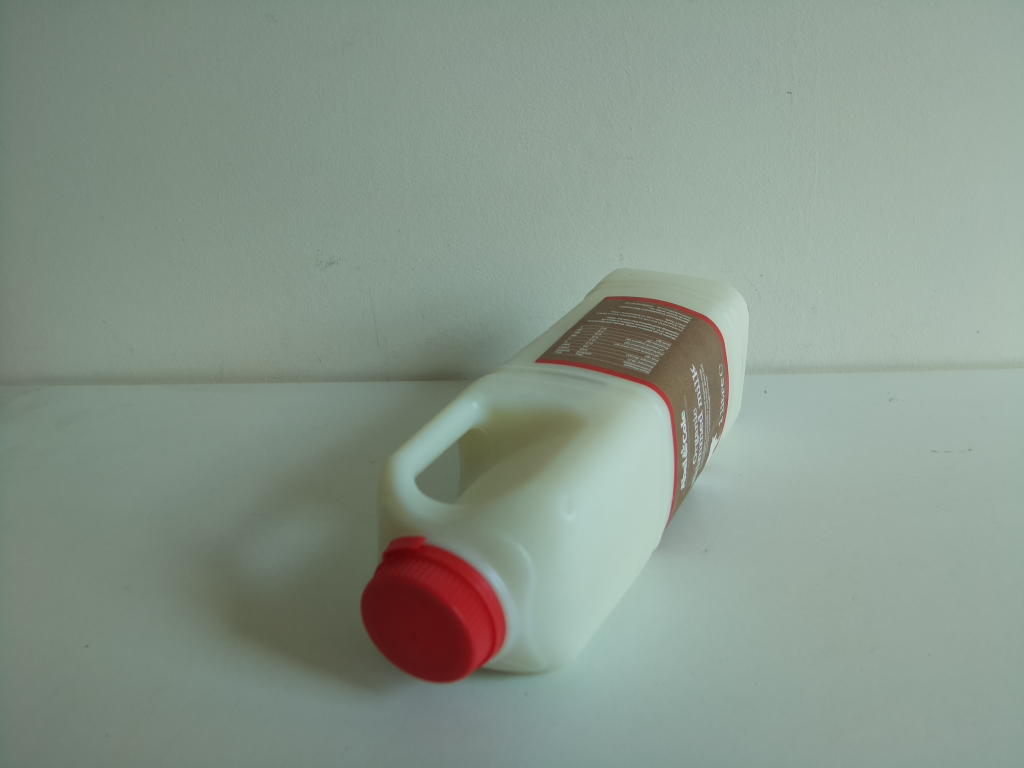milk: (347, 266, 754, 696)
